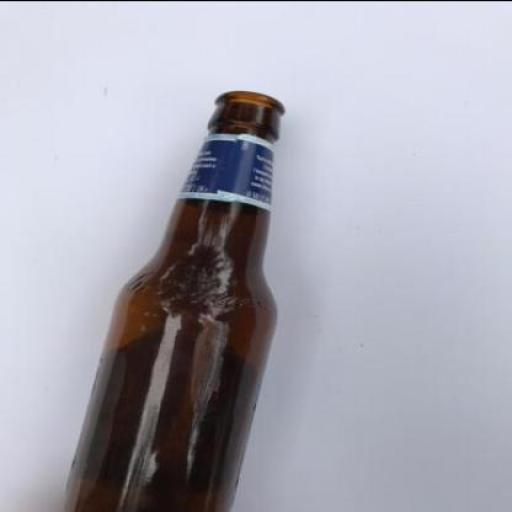glass: (68, 88, 284, 511)
